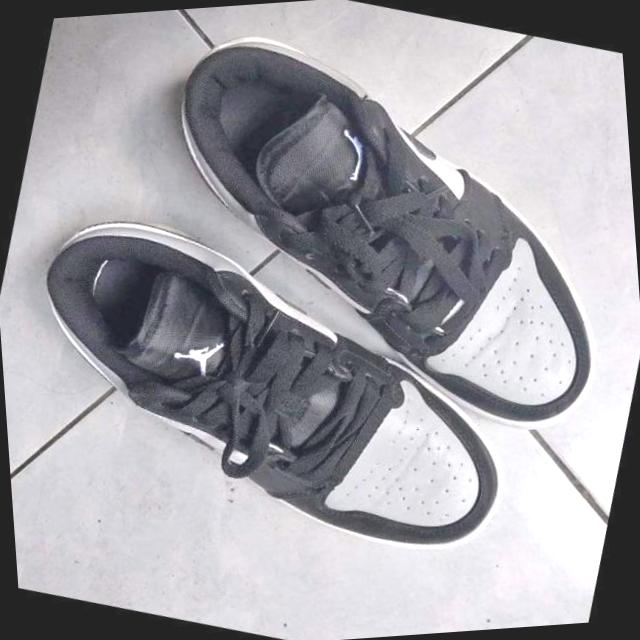nike_fake_jordan: (105, 0, 640, 466), (0, 172, 555, 598)
